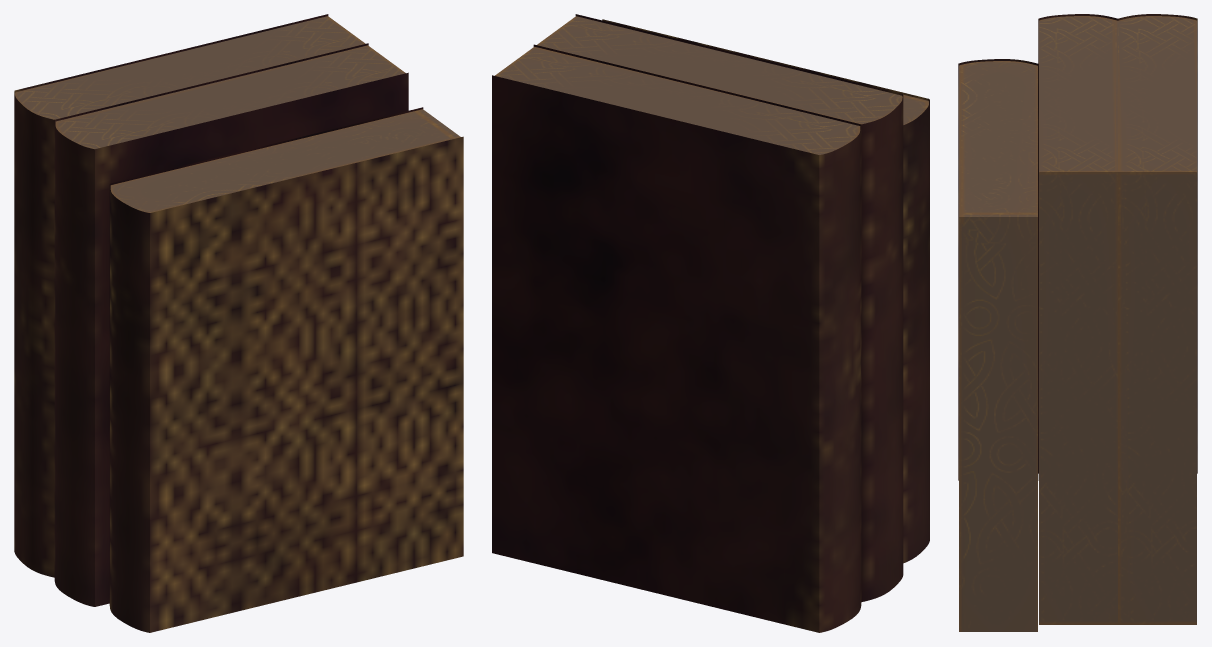
File: SM_BookPile8.fbx
3 views of the same model, side by side, from view 1: azimuth 30°, elevation 25°; view 2: azimuth 150°, elevation 25°; view 3: azimuth 270°, elevation 25° (orthographic). The views are drawn at different scales.
Visible parts, largest first — view 1: SM_BookPile8_LOD0; view 2: SM_BookPile8_LOD0; view 3: SM_BookPile8_LOD0.
Boxes of the visible parts, x1,y1,x2,y2 form: SM_BookPile8_LOD0: (14,14,463,632); SM_BookPile8_LOD0: (492,14,929,632); SM_BookPile8_LOD0: (958,14,1197,631).
Size of the model in its own units: 35.21 by 21.73 by 45.56.
Materials: 1 (1 with a texture image).
